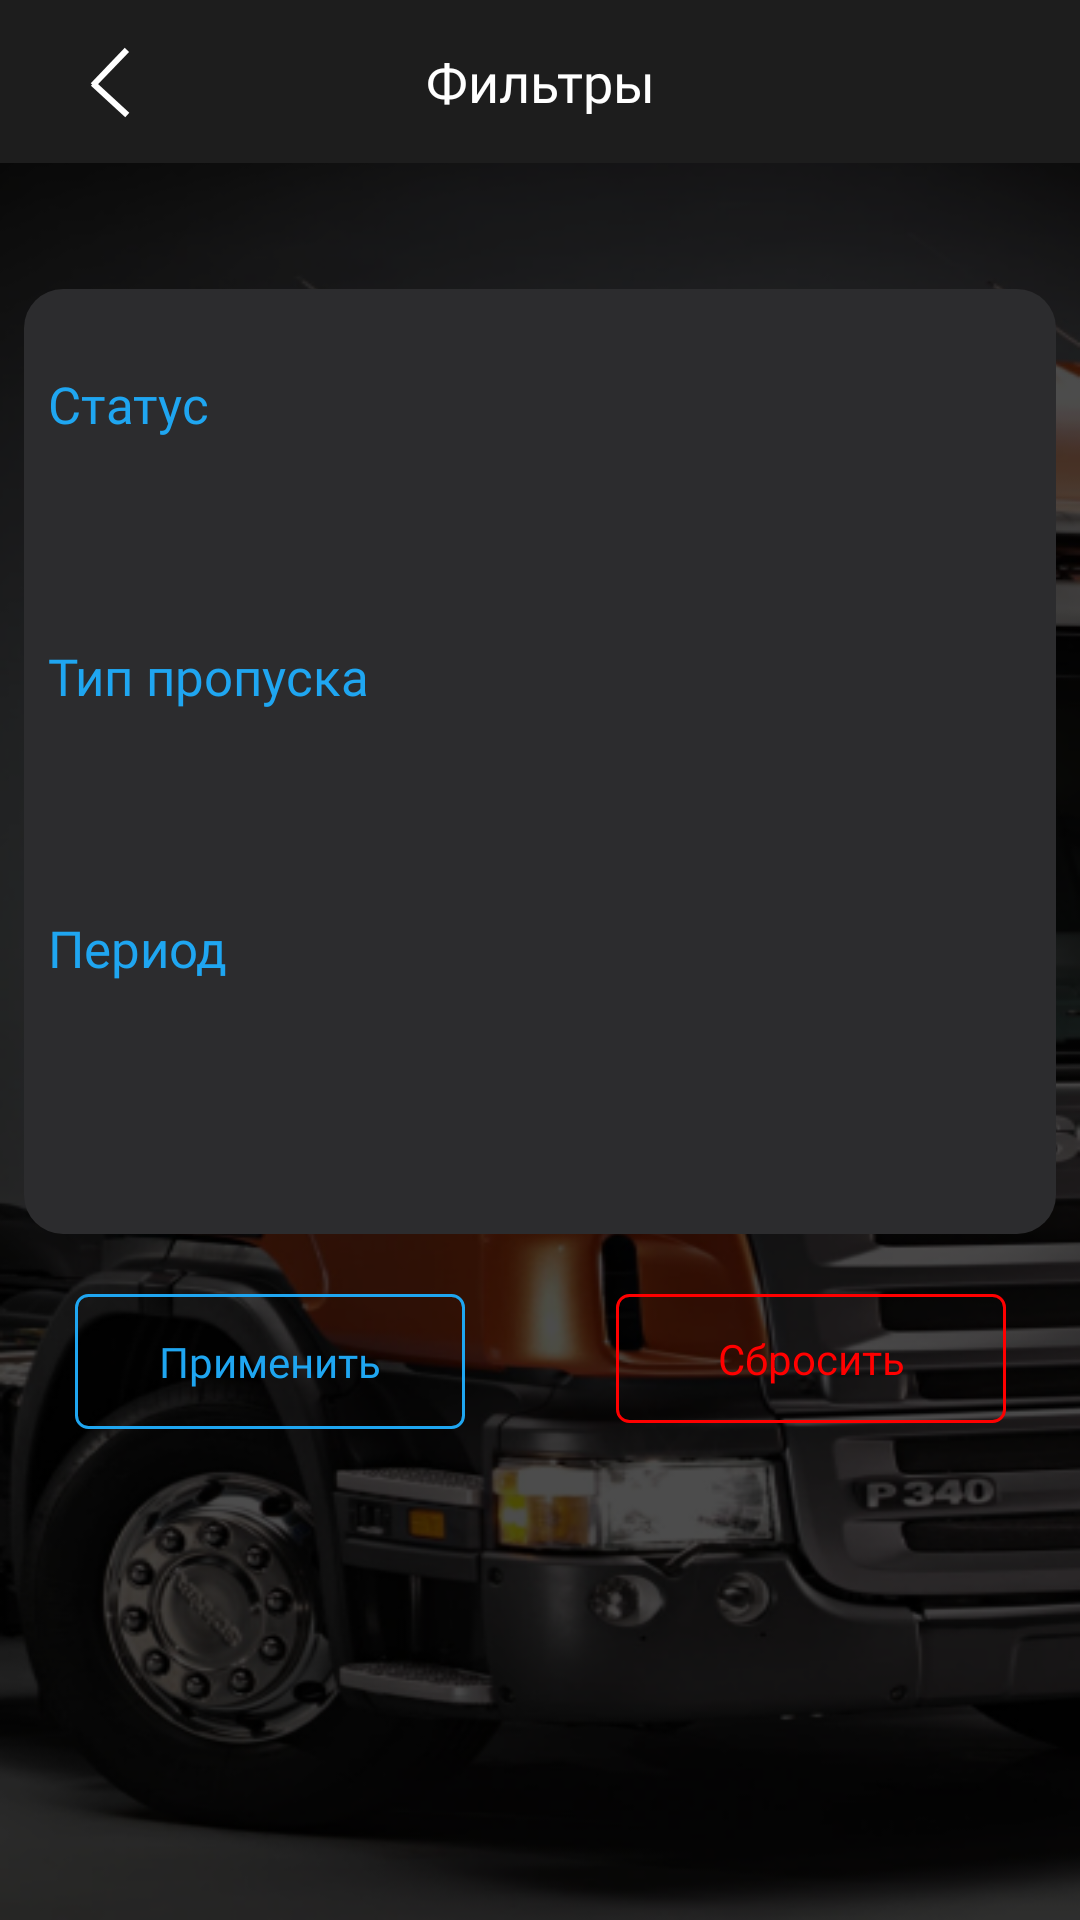

Named icons in this screenshot (1080px×1920px) and their centers, (x=x, y=y):
back: (x=110, y=82)
